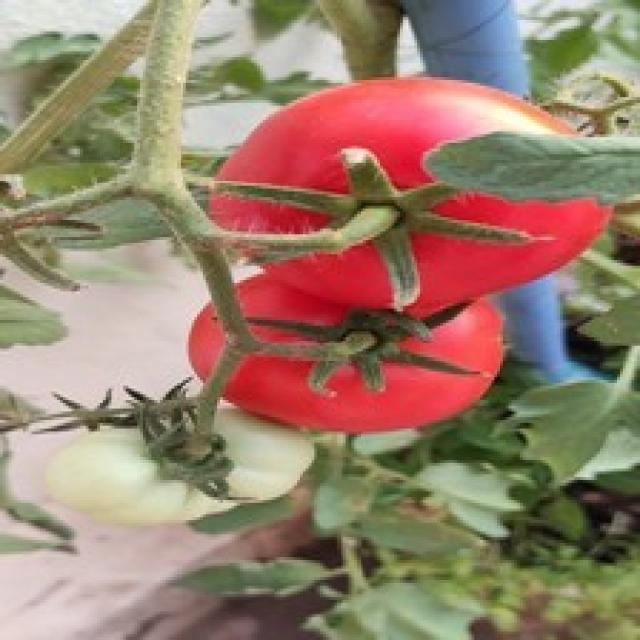tomato: (218, 79, 593, 310), (192, 267, 536, 426), (58, 420, 318, 532)
